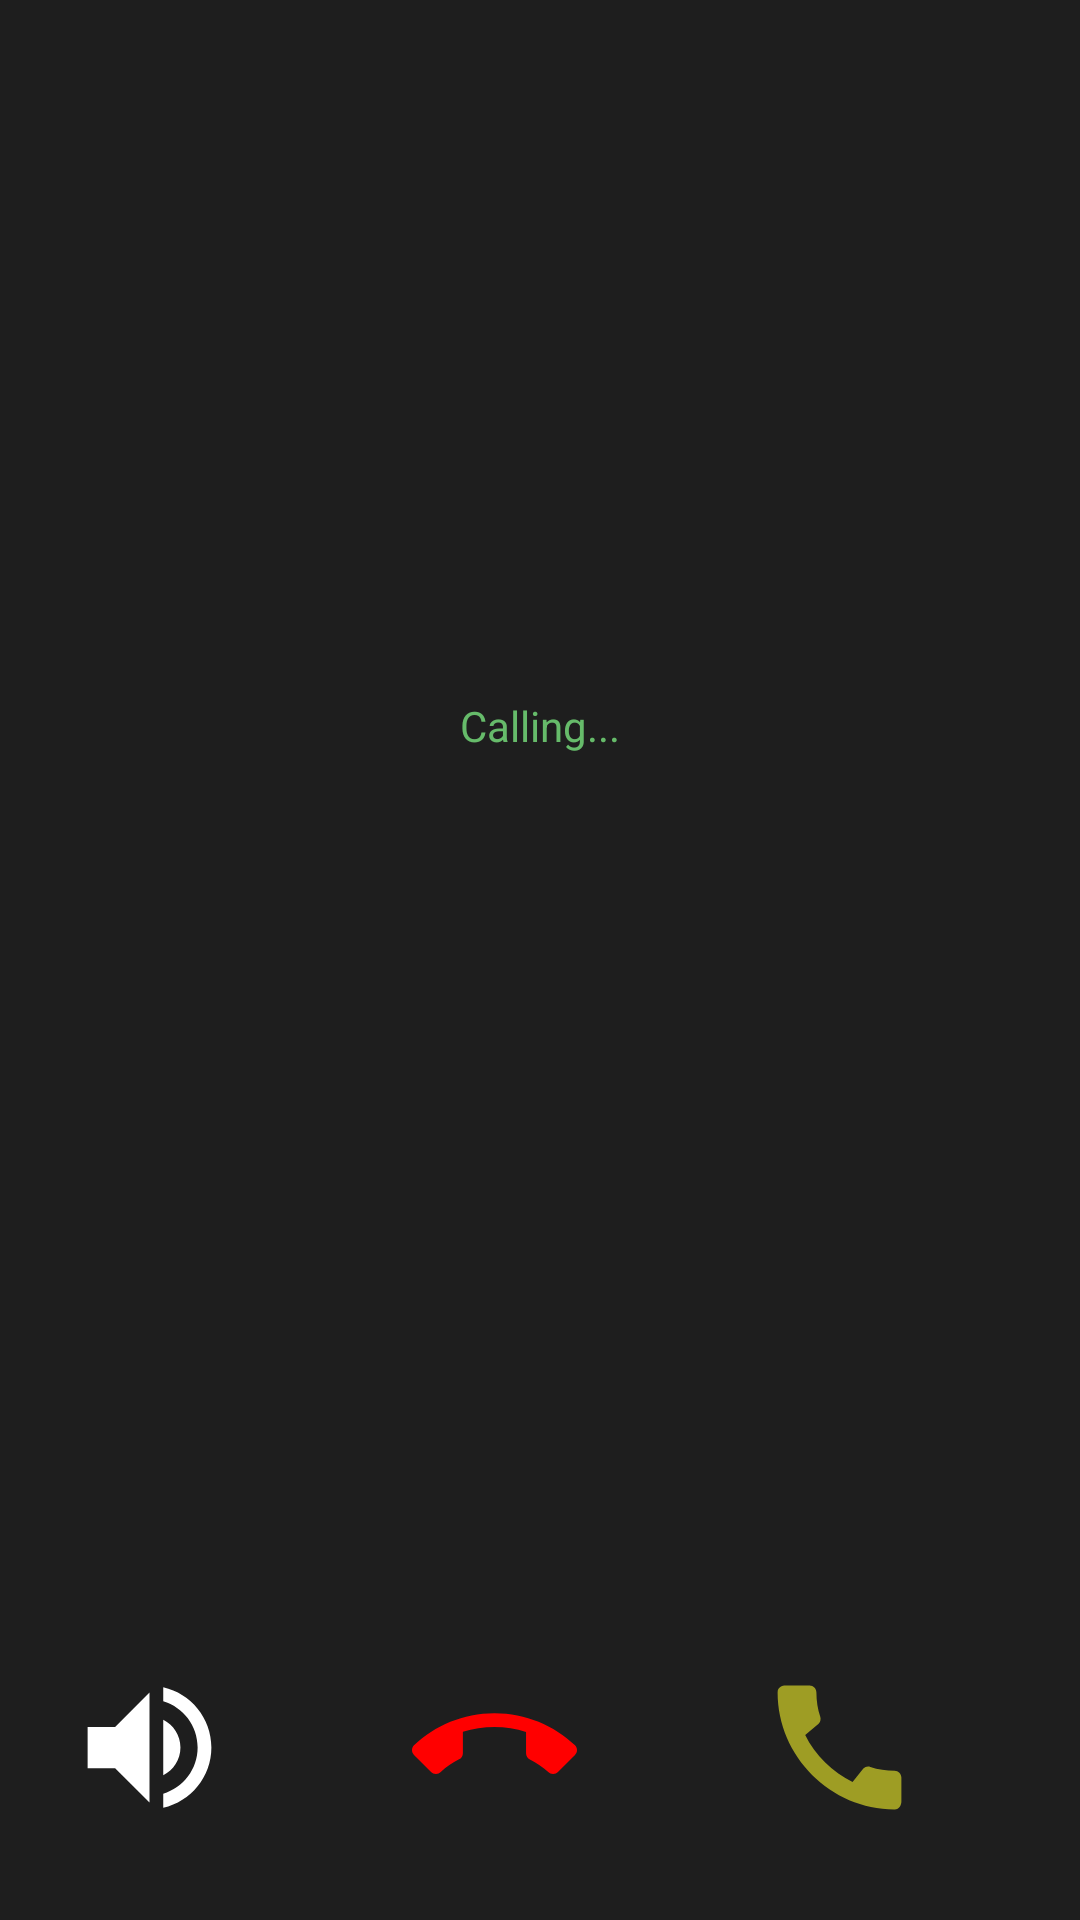

Where to tap for icons on this 1080*1920 app screen, as (x=x, y=y):
call: (x=839, y=1747)
call end: (x=494, y=1743)
volume up: (x=149, y=1747)
